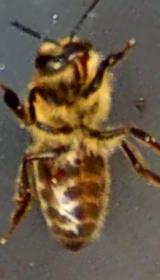varroa_mite: (39, 160, 69, 188)
